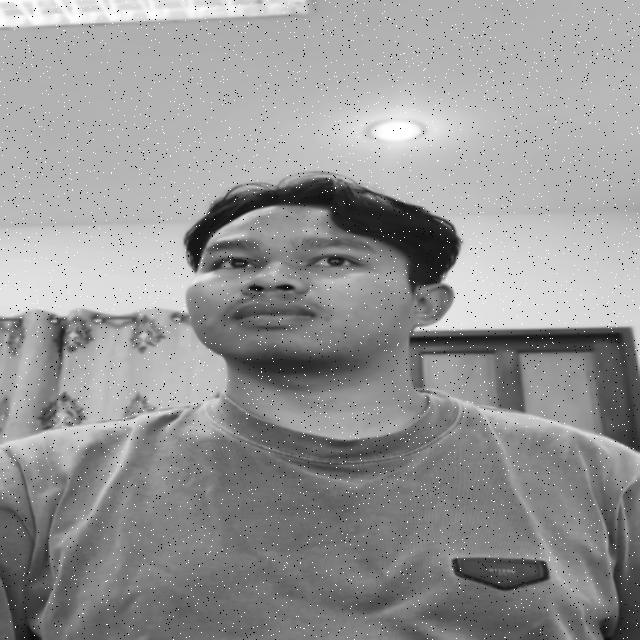ear: (413, 283, 454, 327)
